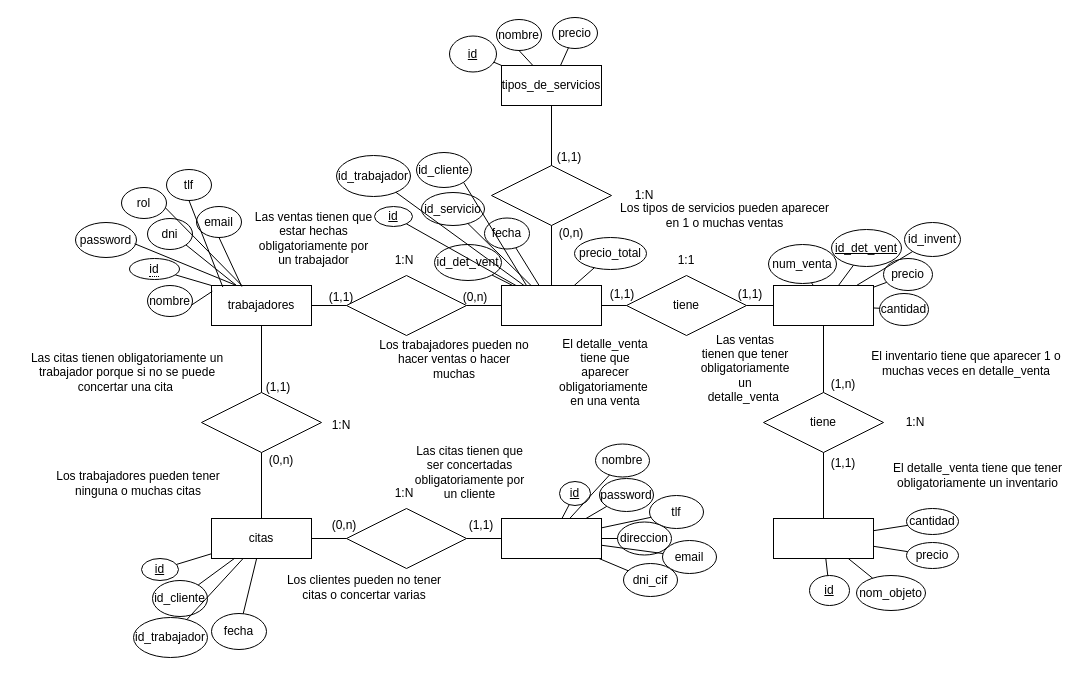
Some shapes in this 1089 by 675 pixel diagram are drawn without their labels. Here are the shapes that lost their labels. From the top down, the centre of each, then its label:
At (x=551, y=195): "aparecer".
At (x=406, y=305): "hace".
At (x=551, y=305): "ventas".
At (x=823, y=305): "detalle_venta".
At (x=261, y=422): "tener".
At (x=406, y=538): "concertar".
At (x=551, y=538): "clientes".
At (x=823, y=538): "inventario".
